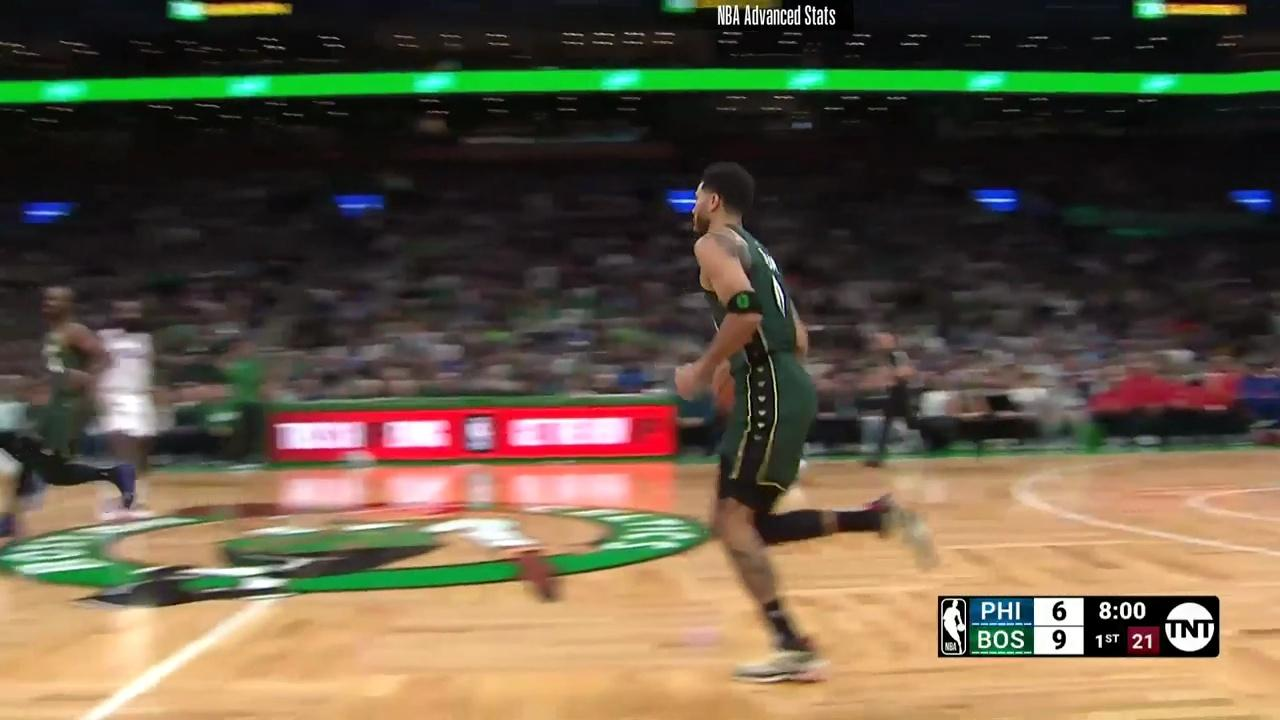Ball: (713, 359, 736, 416)
Person: (655, 160, 874, 669), (6, 280, 113, 549), (90, 296, 159, 528)
Referee: (860, 324, 960, 472)
